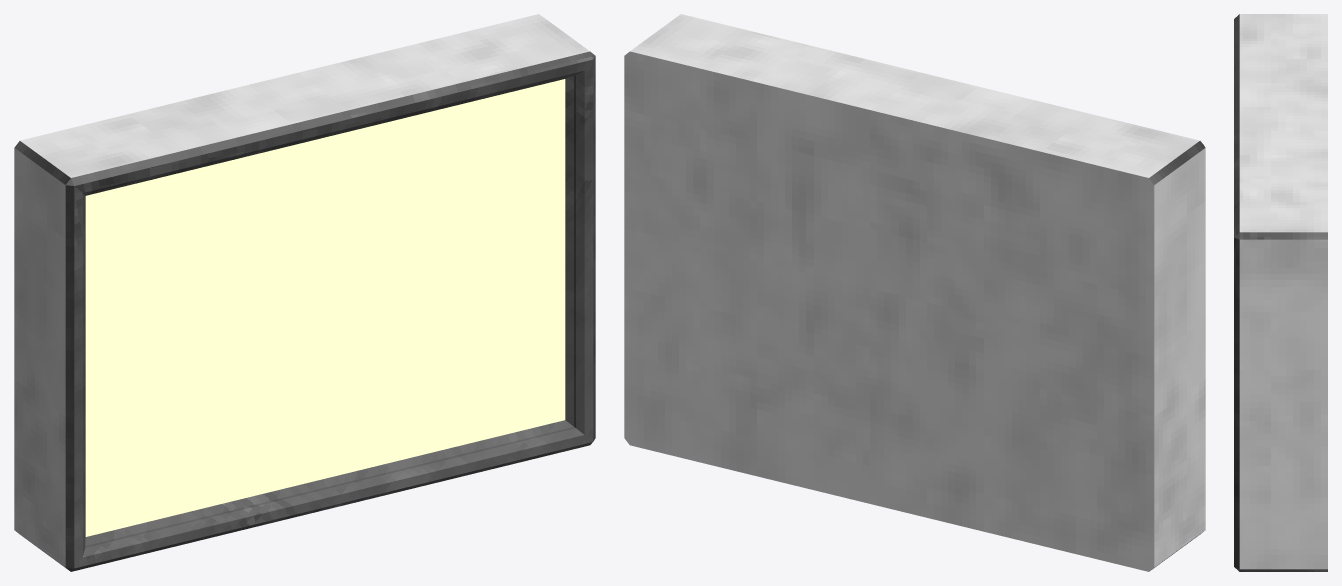
File: monitor.glb
3 views of the same model, side by side, from view 1: azimuth 30°, elevation 25°; view 2: azimuth 150°, elevation 25°; view 3: azimuth 270°, elevation 25° (orthographic). The views are drawn at different scales.
Parts seen in each view (by area): view 1: Cube.001; view 2: Cube.001; view 3: Cube.001.
Boxes of the visible parts, <box> form: Cube.001: <box>14,14,595,571</box>; Cube.001: <box>624,14,1205,571</box>; Cube.001: <box>1234,14,1327,571</box>.
Bounding box in the file's own units: 0.507 × 0.36 × 0.09.
3 materials, 2 textured.
